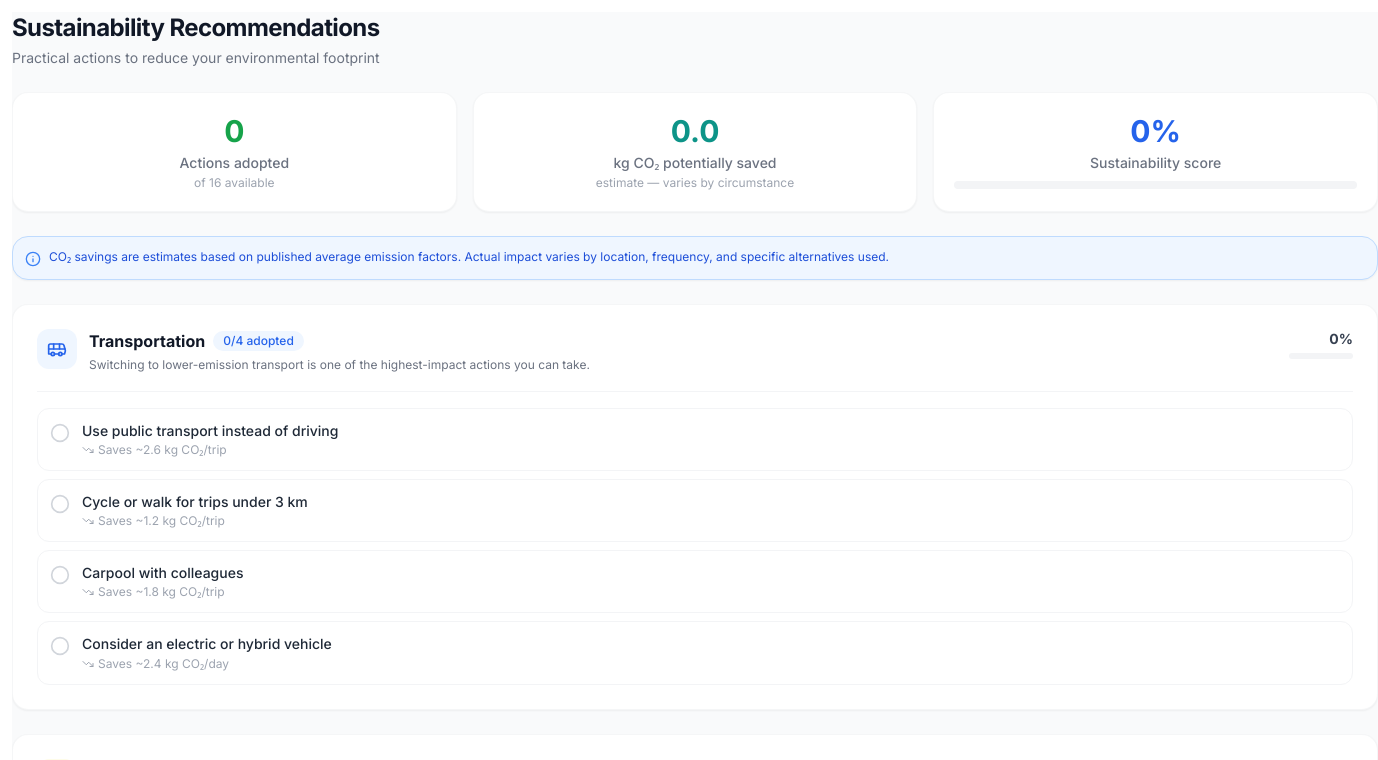
Test: Sustainability › action items are toggleable
The image size is (1378, 760).
What coordinates should you click on to do the following:
click the button "Use public transport"
I would click on:
 (210, 430)
Its box is top-left (37, 408), bottom-right (1353, 471).
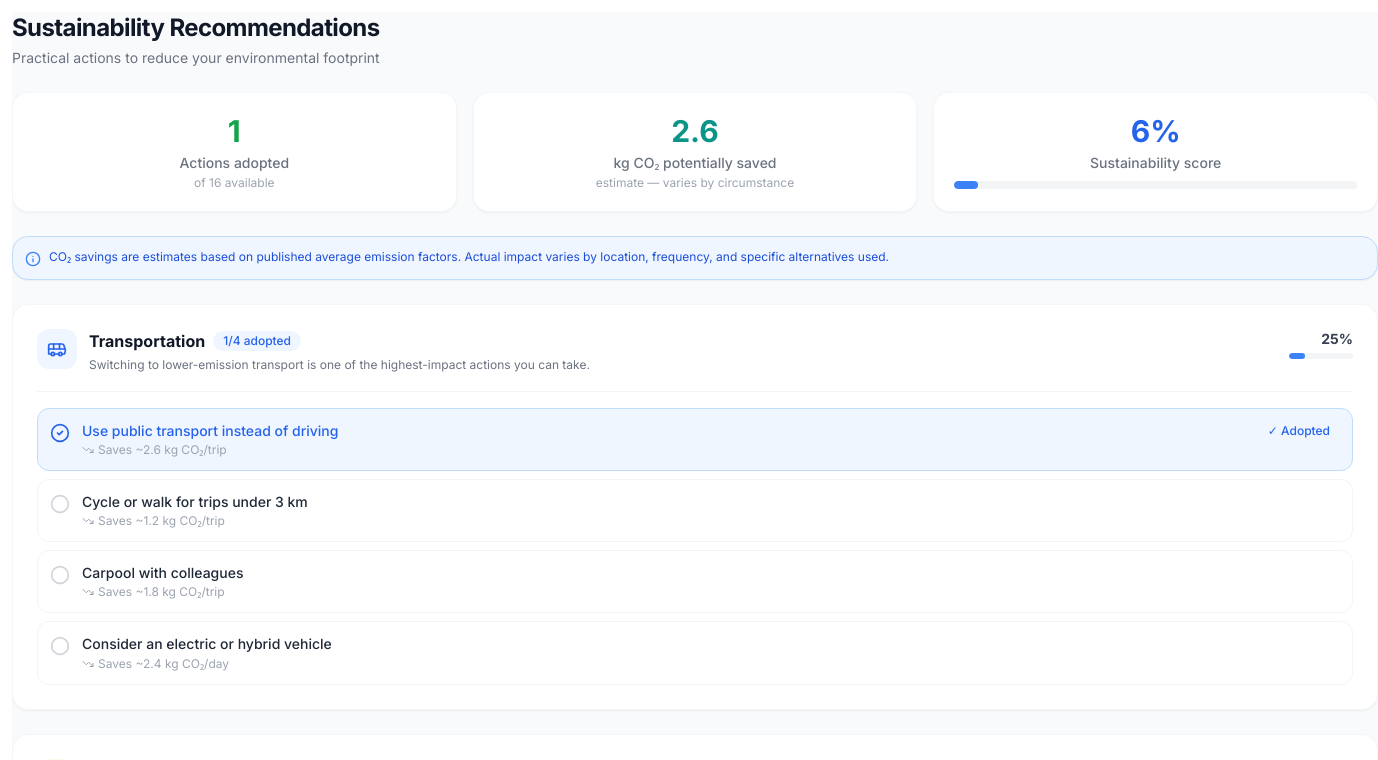
Expected: the button "Use public transport" is pressed, top-left (37, 408), bottom-right (1353, 471)
